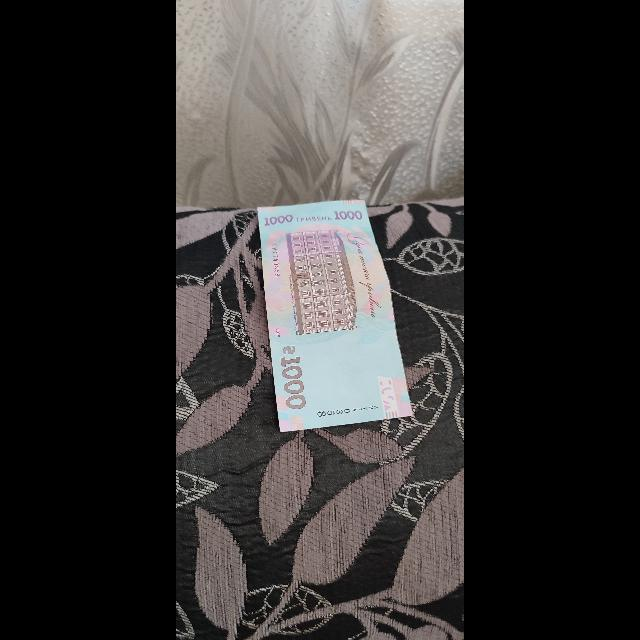1000uah: (258, 200, 413, 432)
